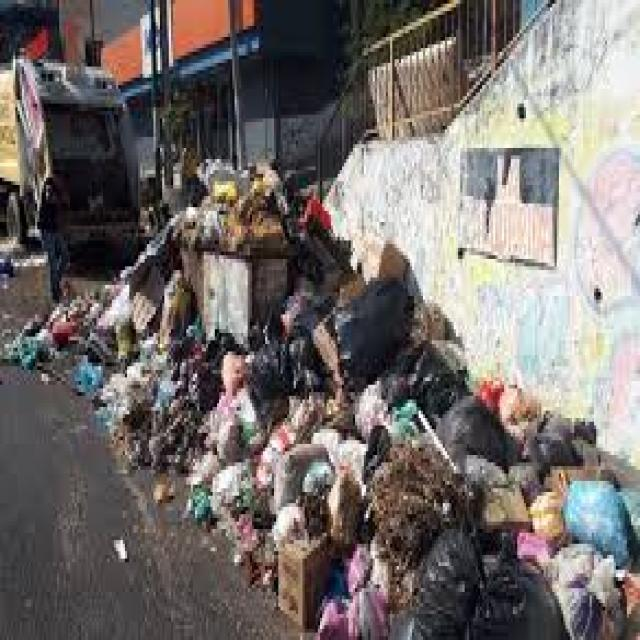garbage: (62, 146, 640, 640)
